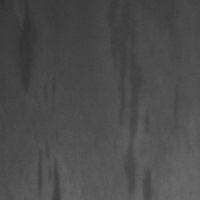inclusion: (109, 1, 155, 200), (11, 1, 41, 97), (29, 132, 64, 199), (156, 11, 190, 69), (138, 166, 156, 200)
